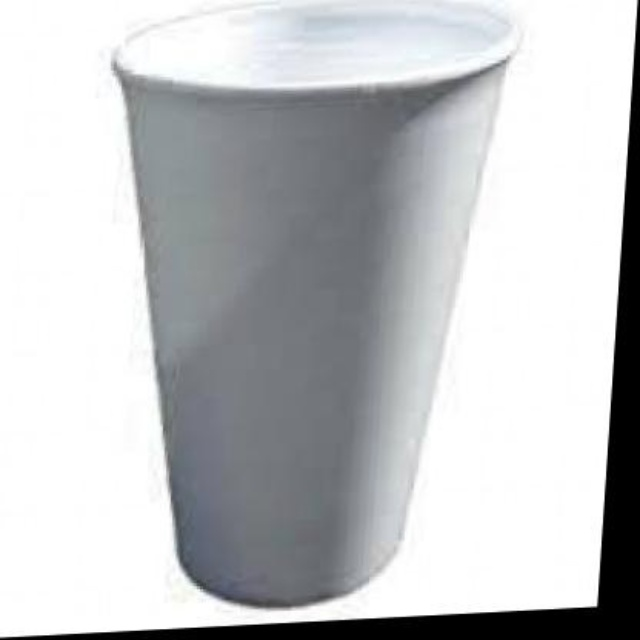trash: (114, 0, 515, 605)
